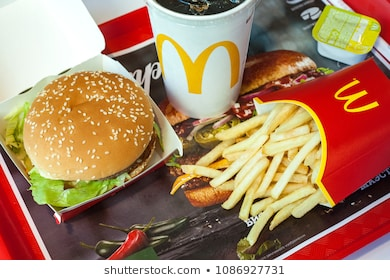mcdonalds: (330, 73, 380, 116)
